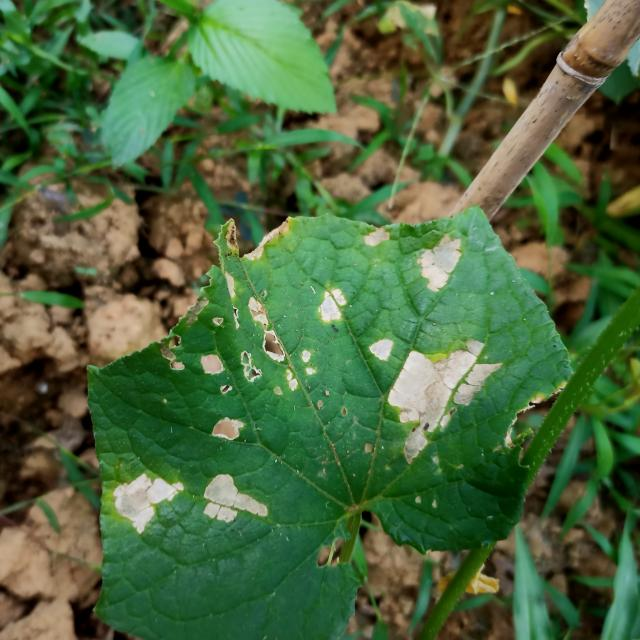disease_cucumber: (318, 220, 493, 470), (176, 289, 316, 440), (108, 440, 282, 546)
